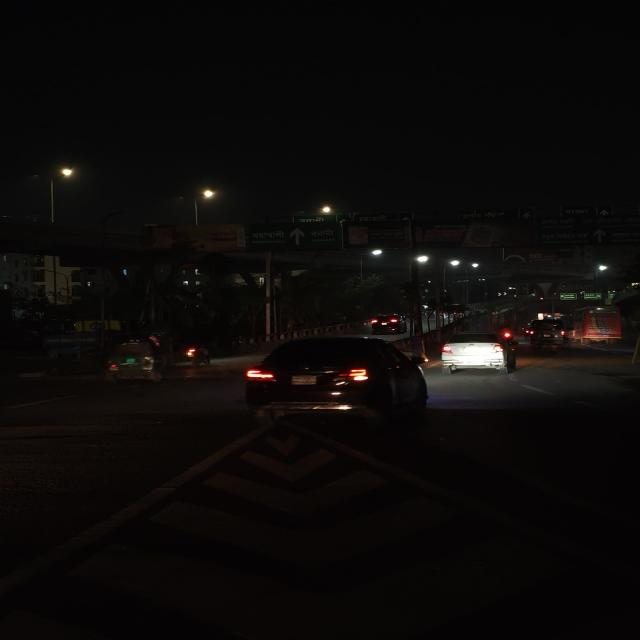bus: (566, 305, 628, 345)
car: (242, 334, 431, 425), (436, 330, 522, 376), (368, 313, 407, 335)
cng: (100, 334, 172, 384), (525, 318, 571, 352)
motorcycle: (175, 340, 214, 368), (499, 326, 516, 341)
